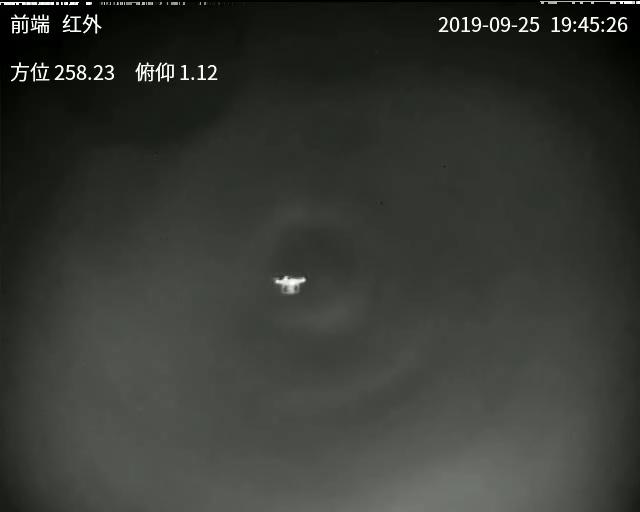uav: (268, 271, 307, 298)
